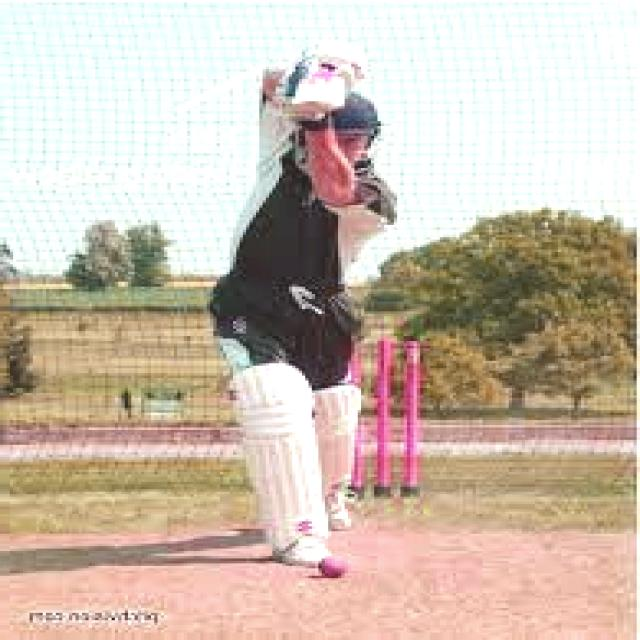toe: (294, 94, 344, 116)
